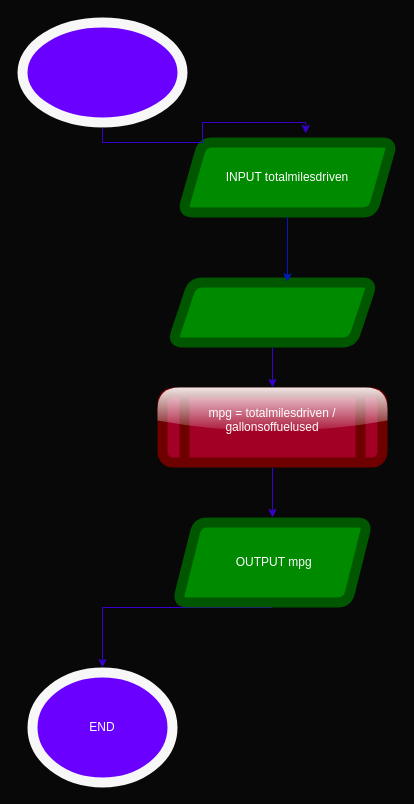
Some shapes in this 414 by 804 pixel diagram are drawn without their labels. Each missing label, with the centre of its shape:
BEGIN: the point at 102,72
INPUT gallonsoffuelused: the point at 272,312
